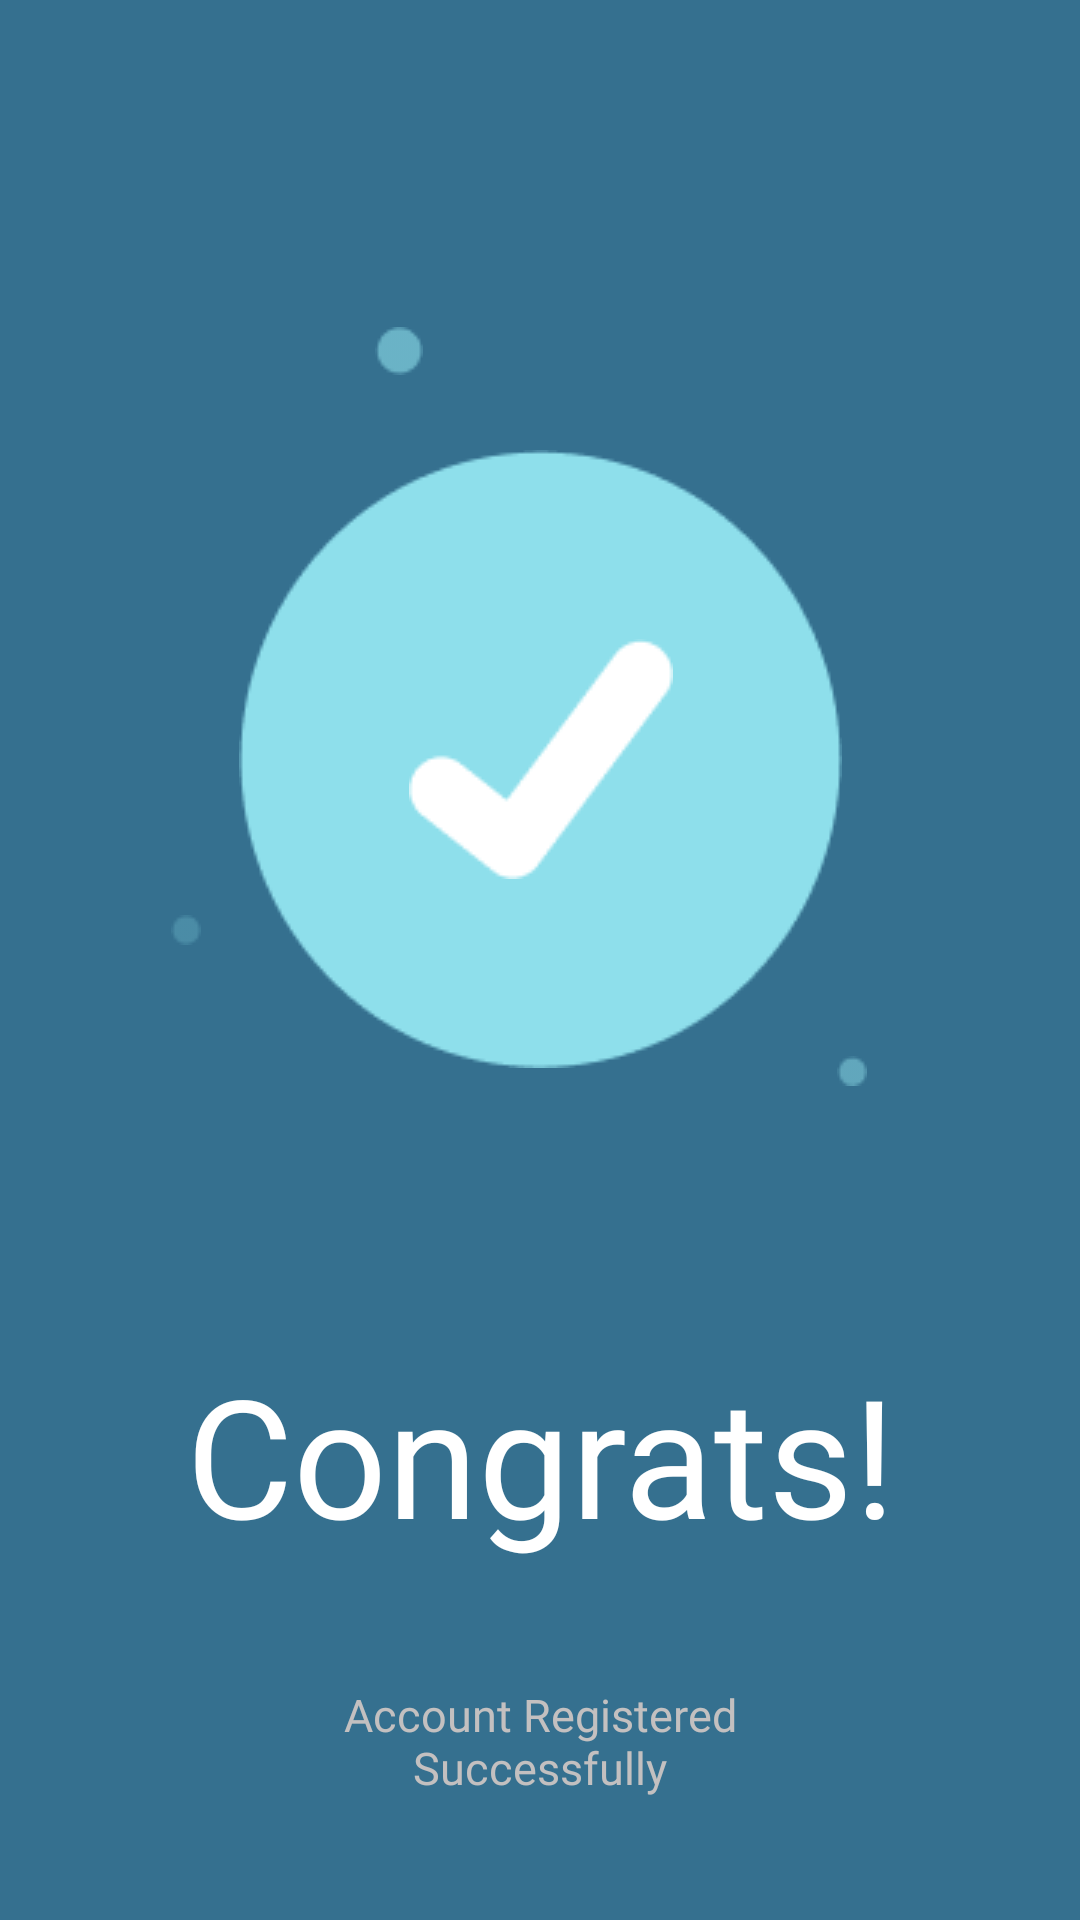

Where icons sit on this 1080×1920 app screen, as [x1, y1, x2, y2]:
check mark: [409, 641, 673, 879]
